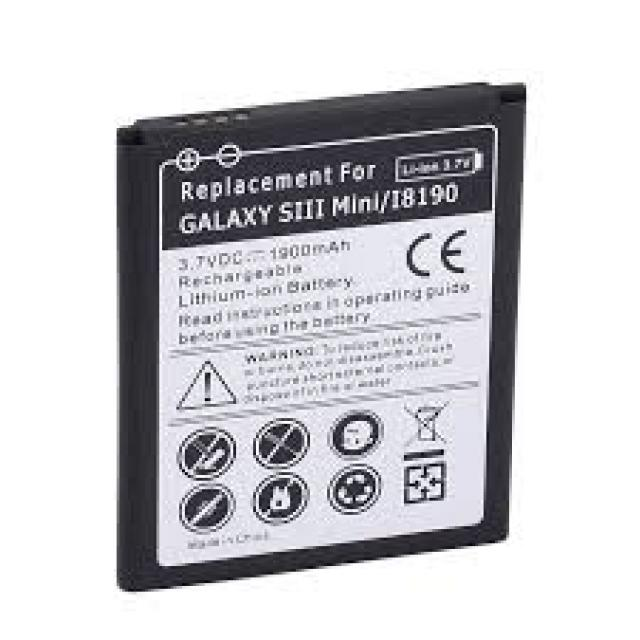non-organic waste: (117, 84, 527, 594)
